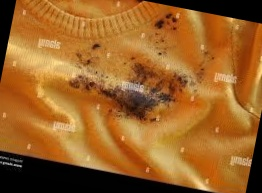earth: (102, 80, 172, 123), (128, 63, 189, 94), (74, 41, 100, 70), (68, 73, 97, 93), (155, 12, 180, 32)
